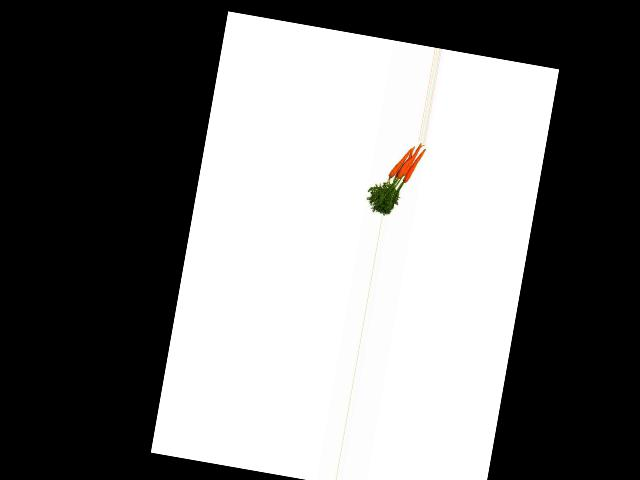carrot: (401, 144, 429, 187)
